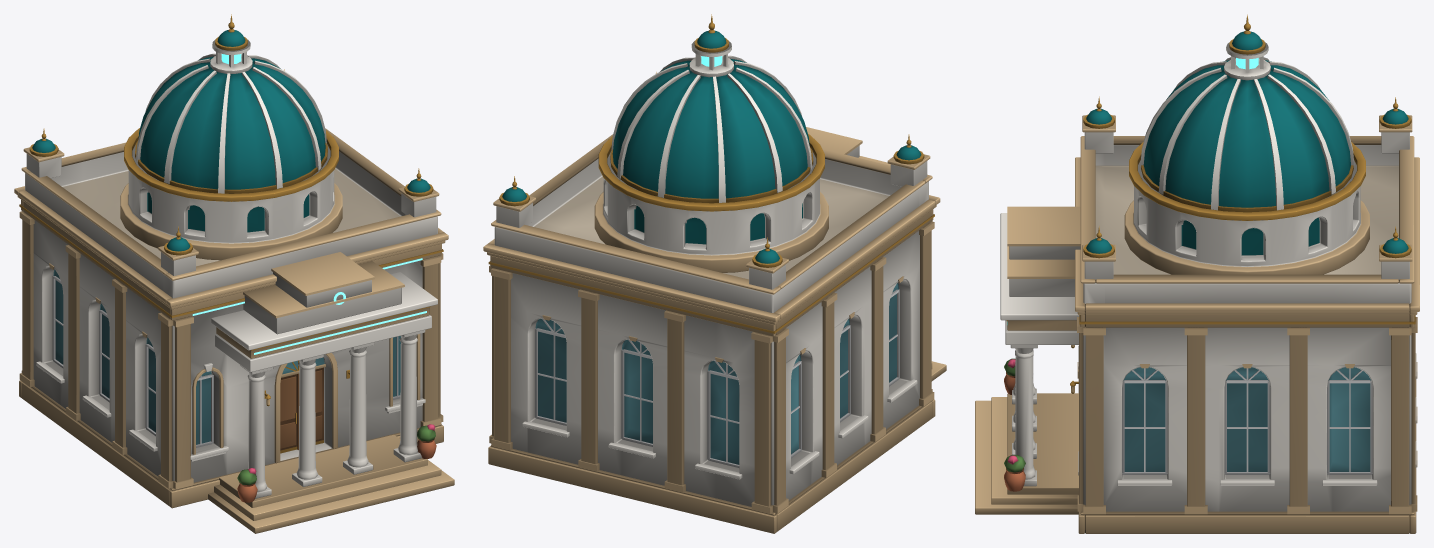
File: bldg_dome.fbx
3 views of the same model, side by side, from view 1: azimuth 30°, elevation 25°; view 2: azimuth 150°, elevation 25°; view 3: azimuth 270°, elevation 25° (orthographic). The views are drawn at different scales.
Parts seen in each view (by area): view 1: bldg_dome; view 2: bldg_dome; view 3: bldg_dome.
Part boxes in pixels (x1,y1,x2,y2): bldg_dome: (14, 14, 454, 533); bldg_dome: (483, 14, 946, 533); bldg_dome: (975, 14, 1419, 533).
Bounding box in the file's own units: 9.34 × 12.99 × 11.72.
